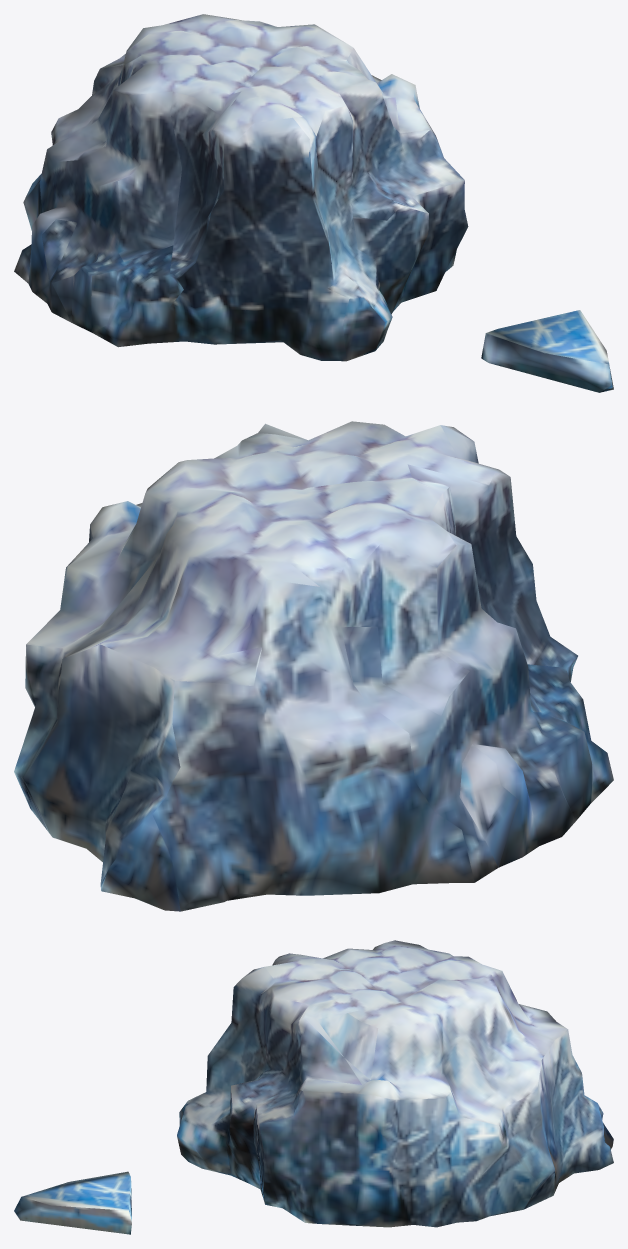
File: BossRoom_IceBoulder.fbx
3 views of the same model, one above another, from view 1: azimuth 30°, elevation 25°; view 2: azimuth 150°, elevation 25°; view 3: azimuth 270°, elevation 25° (orthographic). The views are drawn at different scales.
Parts seen in each view (by area): view 1: BossRoom_IceBoulder_Mesh; view 2: BossRoom_IceBoulder_Mesh; view 3: BossRoom_IceBoulder_Mesh.
Part boxes in pixels (x1,y1,x2,y2): BossRoom_IceBoulder_Mesh: (14,14,613,392); BossRoom_IceBoulder_Mesh: (14,421,613,911); BossRoom_IceBoulder_Mesh: (14,940,613,1234).
Size of the model in its own units: 3.72 by 2.09 by 6.
1 material, 1 textured.
